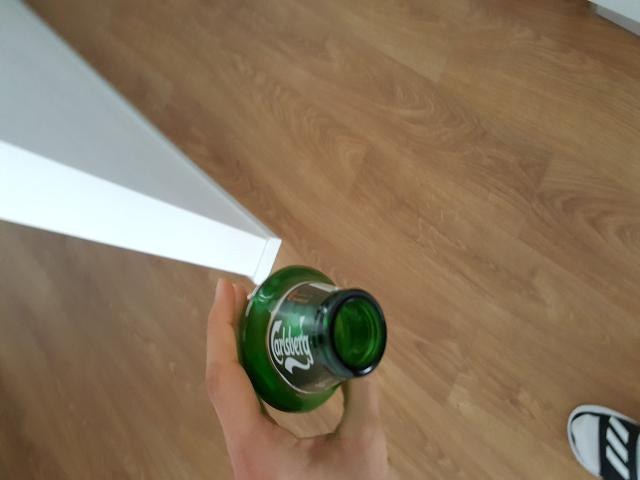beer: (239, 264, 386, 416)
